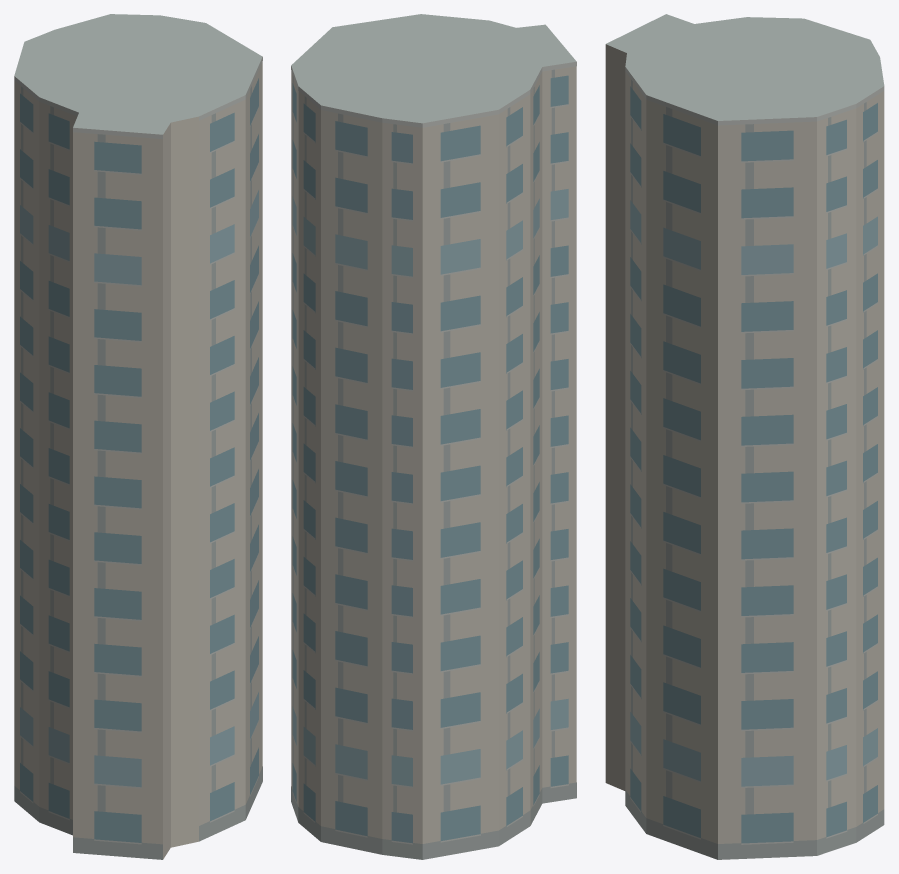
File: survey-upis-32840819.glb
The picture shows the model from 3 angles, left to right: view 1: azimuth 30°, elevation 25°; view 2: azimuth 150°, elevation 25°; view 3: azimuth 270°, elevation 25°; orthographic projection.
Visible parts, largest first — view 1: survey-upis-32840819.tmp; view 2: survey-upis-32840819.tmp; view 3: survey-upis-32840819.tmp.
Boxes of the visible parts, <box> form: survey-upis-32840819.tmp: <box>14,14,262,859</box>; survey-upis-32840819.tmp: <box>291,14,576,859</box>; survey-upis-32840819.tmp: <box>605,14,884,859</box>.
Bounding box in the file's own units: 12.33 × 39.65 × 13.57.
